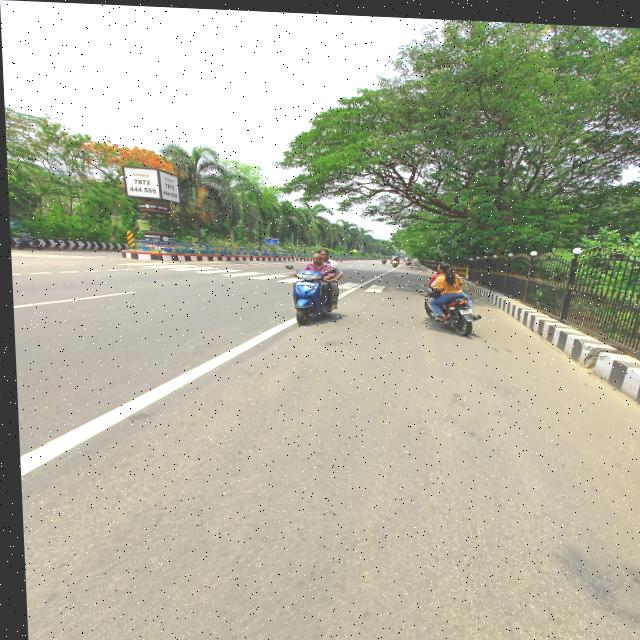bike: (418, 276, 485, 337), (286, 266, 350, 326)
